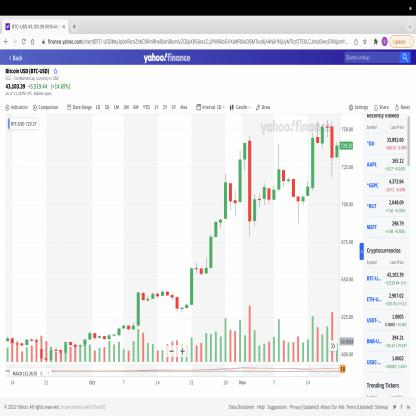Bearish: Evening Star Doji: (320, 116, 334, 180)
Bullish: Morning Star Doji: (228, 148, 243, 218)
